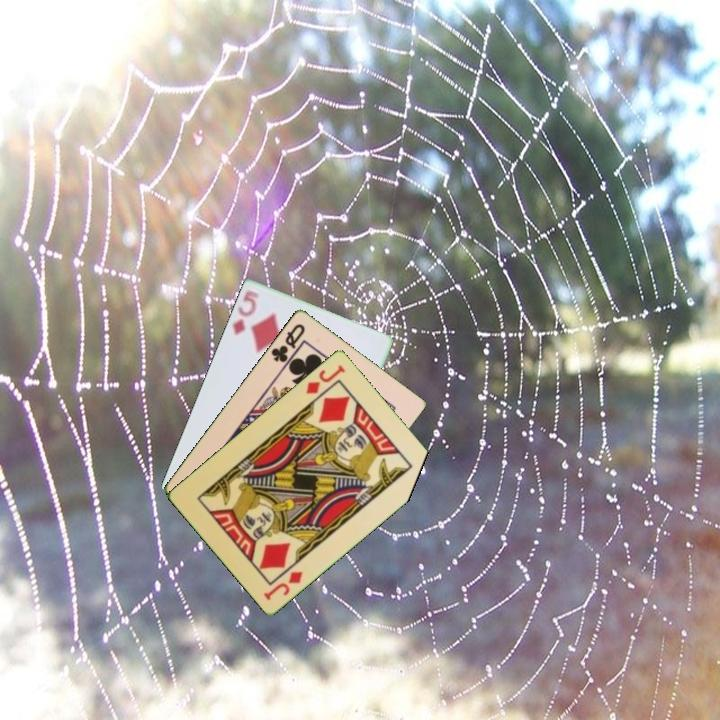5d: (229, 286, 262, 338)
Jd: (302, 361, 348, 397), (260, 567, 306, 603)
Qc: (267, 320, 308, 371)
